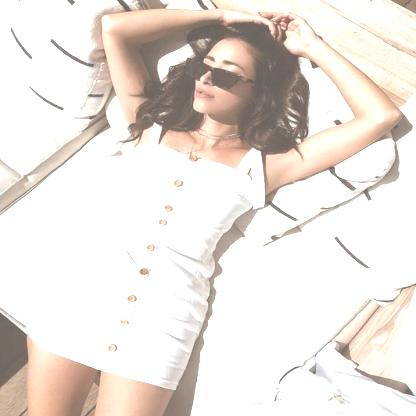jacket: (25, 116, 275, 399)
